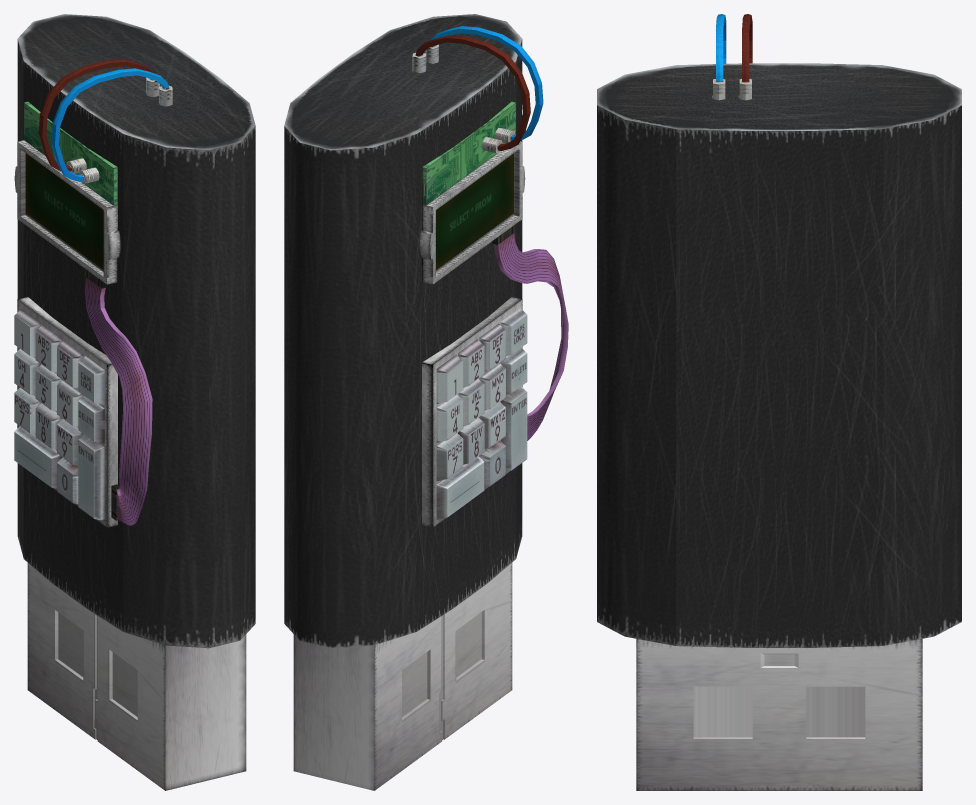
The model's file is USbomba.fbx.
3 views of the same model, side by side, from view 1: azimuth 30°, elevation 25°; view 2: azimuth 150°, elevation 25°; view 3: azimuth 270°, elevation 25° (orthographic). The views are drawn at different scales.
Visible parts, largest first — view 1: Spike; view 2: Spike; view 3: Spike.
Part boxes in pixels (x1,y1,x2,y2): Spike: (14, 14, 255, 790); Spike: (284, 14, 568, 790); Spike: (597, 14, 961, 790).
Size of the model in its own units: 36.93 by 137 by 63.
1 material, 1 textured.
